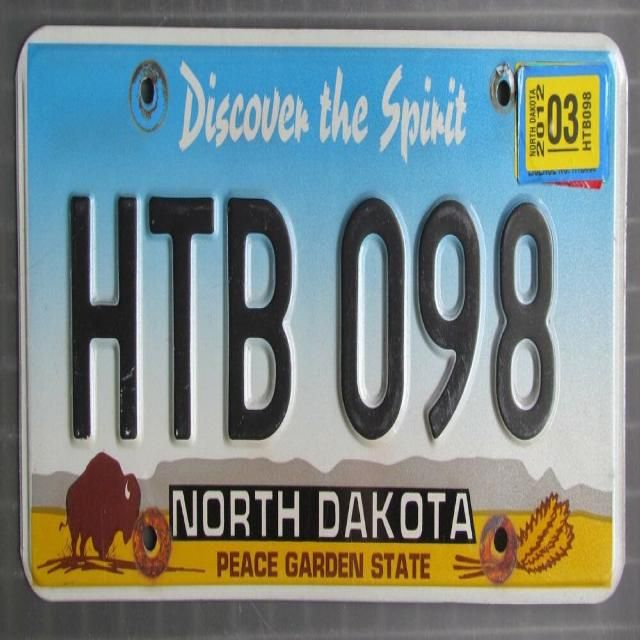placa: (27, 166, 618, 471)
